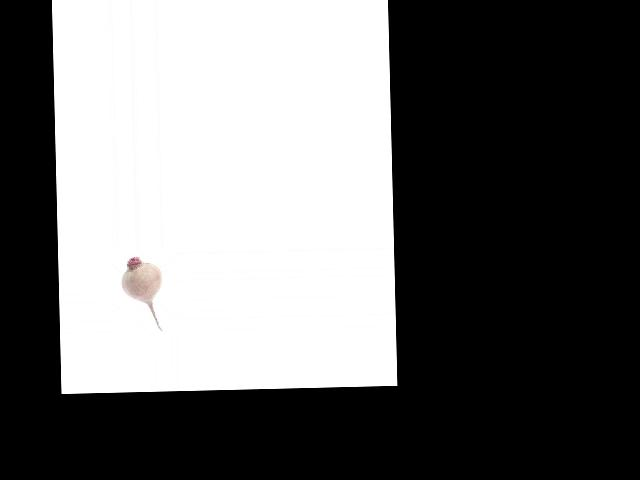beet: (119, 256, 163, 331)
